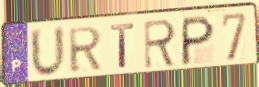7: (220, 11, 249, 63)
P: (179, 13, 217, 67)
R: (66, 25, 104, 75), (143, 17, 178, 71)
T: (109, 22, 137, 71)
U: (28, 24, 68, 80)
